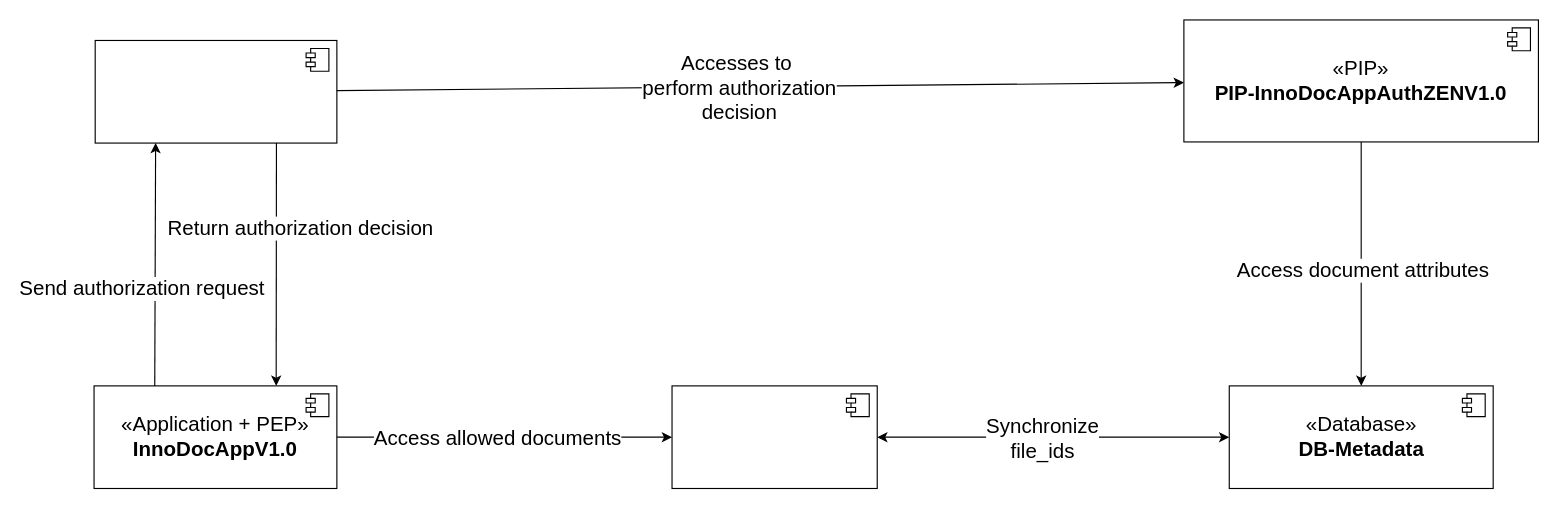
This 1558x508 diagram has some shape labels left out. The centre of each missing label's shape, as x and y in pixels:
"«External System» InnoDocStore" goes at [774,436].
"«PDP» Open Policy Agent (OPA)" goes at [215,91].
